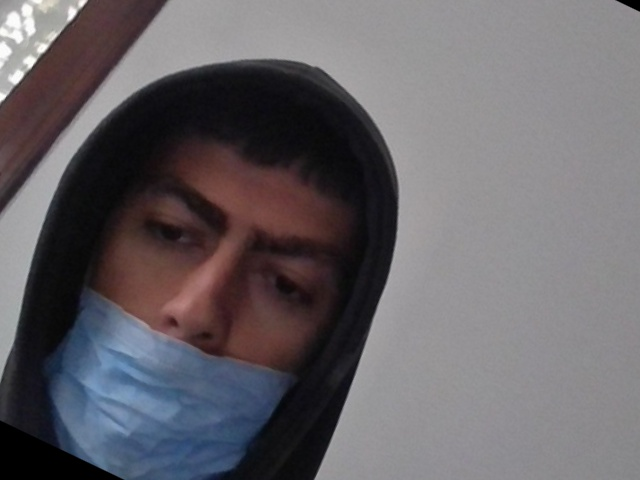mask_weared_incorrect: (52, 116, 359, 469)
